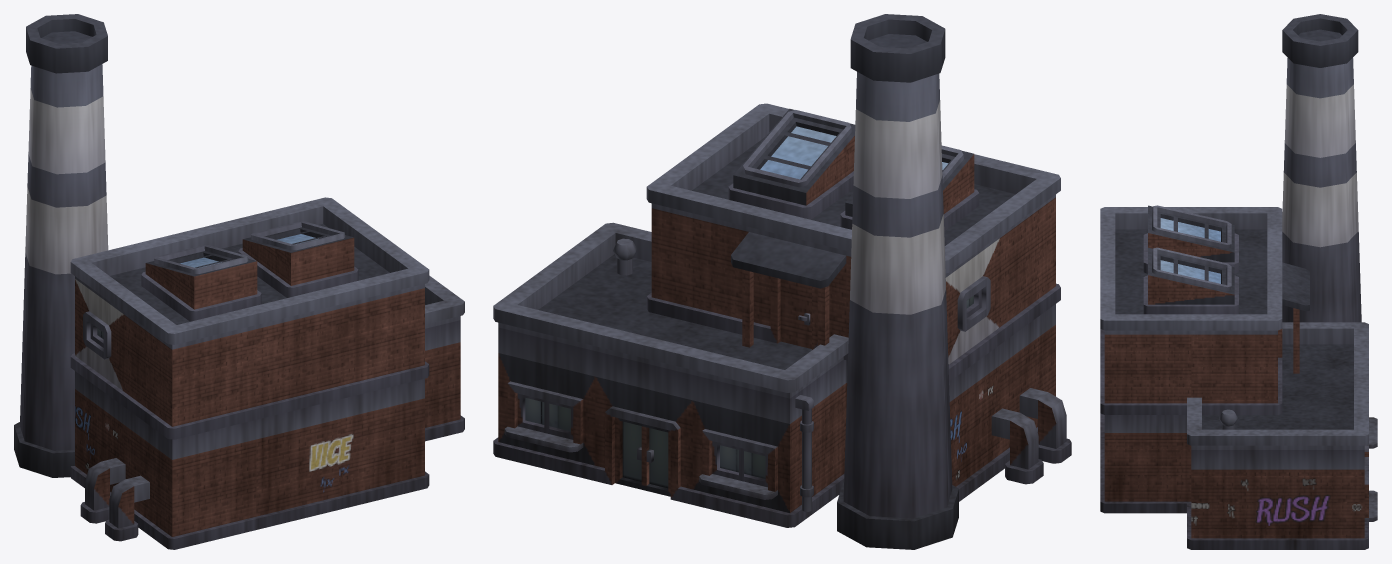
Rendered from building-f-brown-scuffed.glb.
The picture shows the model from 3 angles, left to right: view 1: azimuth 30°, elevation 25°; view 2: azimuth 150°, elevation 25°; view 3: azimuth 270°, elevation 25°; orthographic projection. The views are drawn at different scales.
Visible parts, largest first — view 1: building-f; view 2: building-f; view 3: building-f.
Boxes of the visible parts, left/top/right/bottom form: building-f: left=14, top=14, right=464, bottom=549; building-f: left=493, top=14, right=1071, bottom=549; building-f: left=1100, top=14, right=1377, bottom=549.
Size of the model in its own units: 1.79 by 1.92 by 1.28.
Materials: 1 (1 with a texture image).
